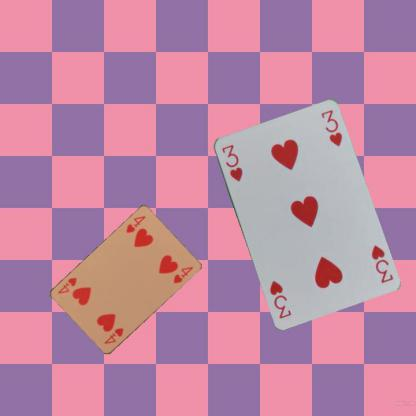3h: (368, 242, 394, 284), (219, 142, 244, 182)
4h: (124, 213, 146, 235), (101, 326, 124, 346)
